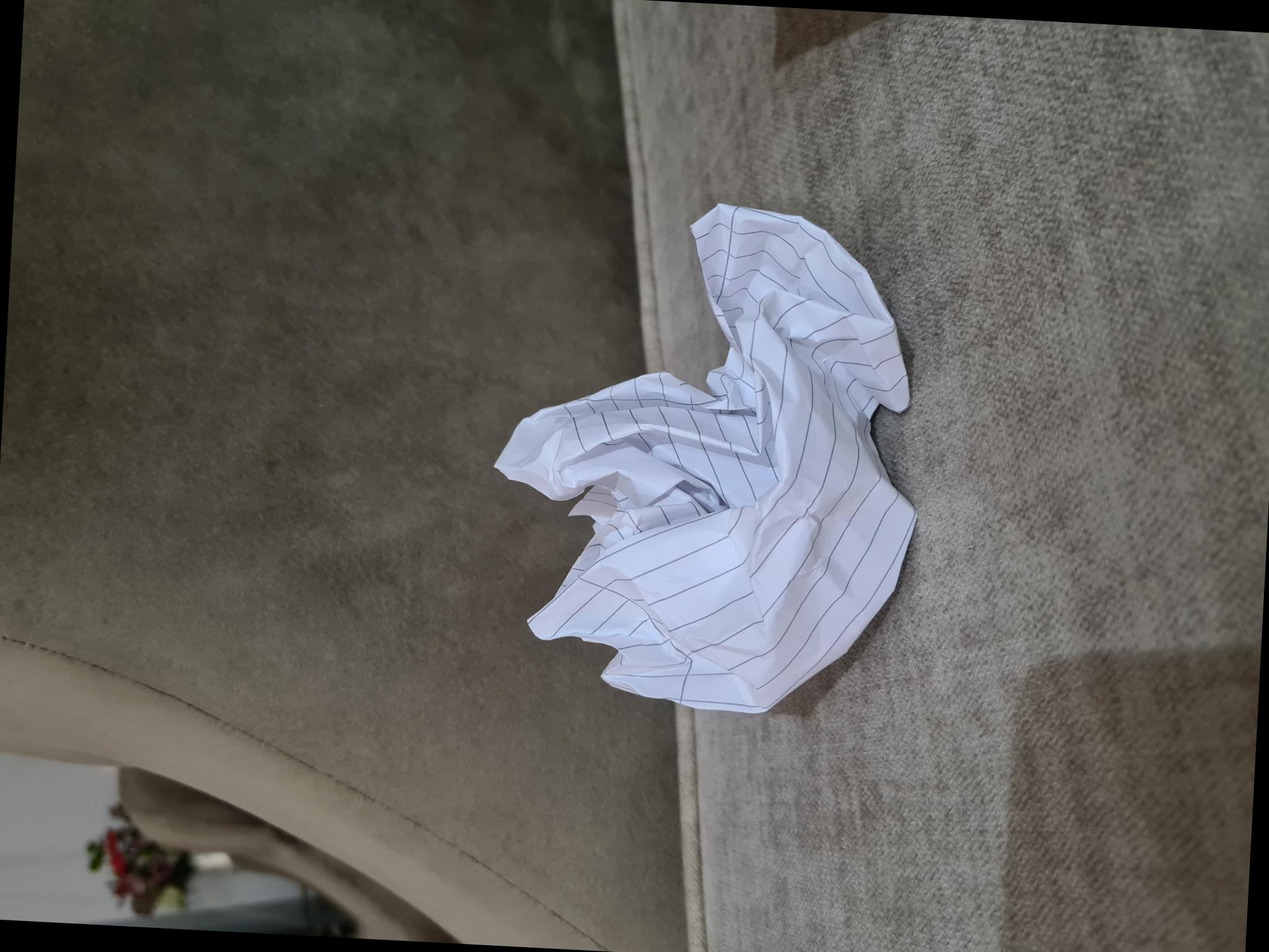Kertas: (231, 487, 739, 906)
